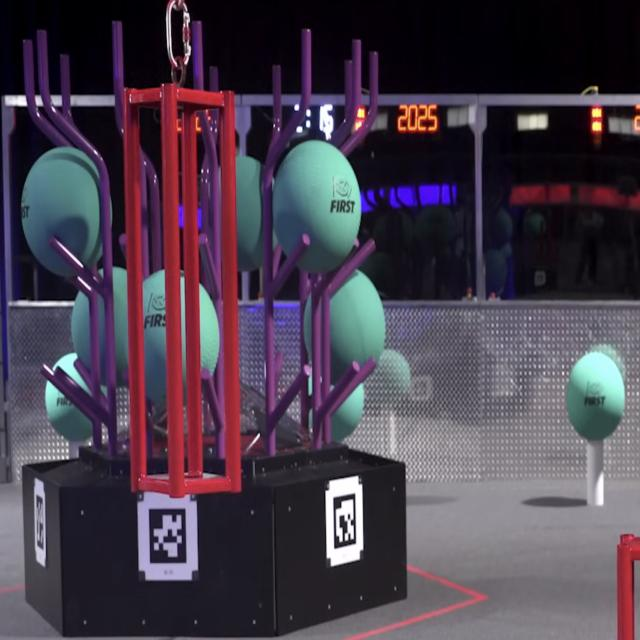Algae: (124, 268, 220, 403), (273, 138, 362, 274), (21, 144, 113, 274), (304, 268, 386, 388), (72, 267, 128, 388), (221, 154, 275, 272), (563, 352, 626, 440), (46, 354, 106, 441), (331, 385, 365, 442)
Coral: (585, 439, 606, 507), (70, 442, 88, 458)
Reef: (49, 235, 104, 297), (55, 366, 107, 426), (41, 363, 93, 422), (329, 238, 376, 300), (268, 365, 310, 431), (331, 358, 376, 416), (318, 238, 358, 298), (318, 361, 360, 415), (271, 234, 311, 289), (74, 359, 108, 412), (201, 368, 223, 431), (198, 234, 218, 298), (112, 21, 123, 122), (37, 30, 50, 111), (301, 28, 311, 118), (23, 39, 35, 113), (352, 40, 361, 126), (369, 51, 379, 123), (59, 54, 71, 113), (192, 20, 202, 90), (271, 66, 282, 126), (210, 66, 218, 136), (66, 276, 90, 298), (274, 351, 283, 390), (345, 61, 352, 111), (273, 245, 281, 278)
